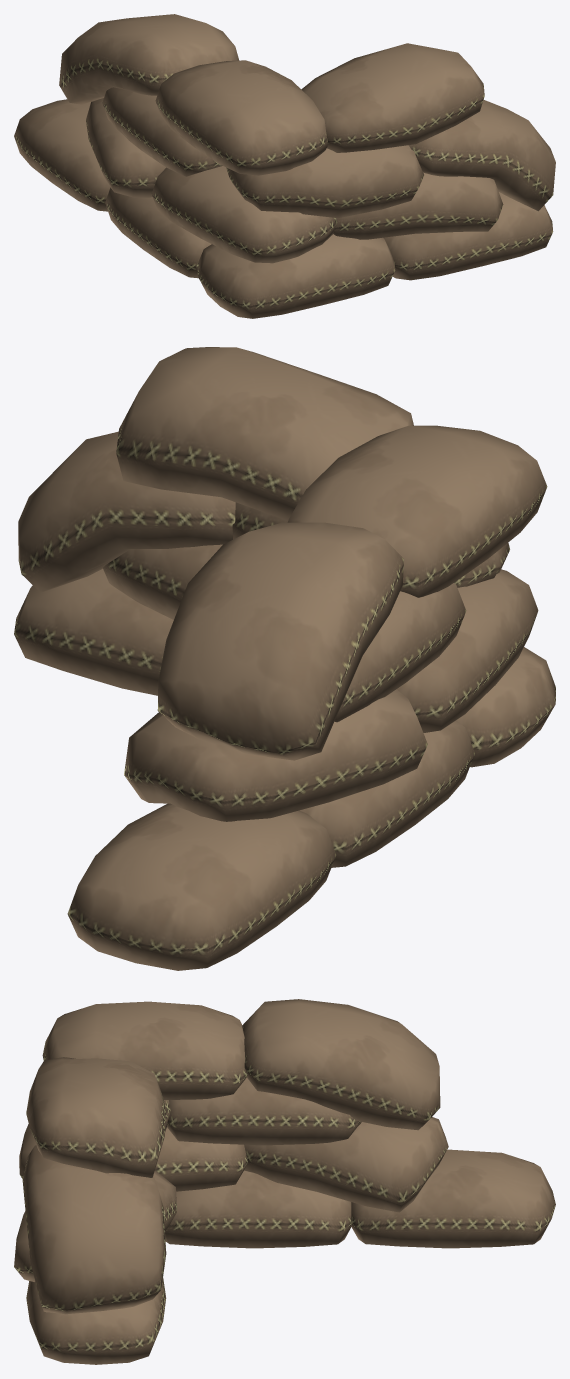
File: Bags3.fbx
3 views of the same model, one above another, from view 1: azimuth 30°, elevation 25°; view 2: azimuth 150°, elevation 25°; view 3: azimuth 270°, elevation 25° (orthographic). The views are drawn at different scales.
Parts seen in each view (by area): view 1: polySurface1235; view 2: polySurface1235; view 3: polySurface1235.
Boxes of the visible parts, x1,y1,x2,y2 form: polySurface1235: (14,14,555,318); polySurface1235: (14,347,555,970); polySurface1235: (14,999,555,1364).
Size of the model in its own units: 169 by 98.88 by 214.
